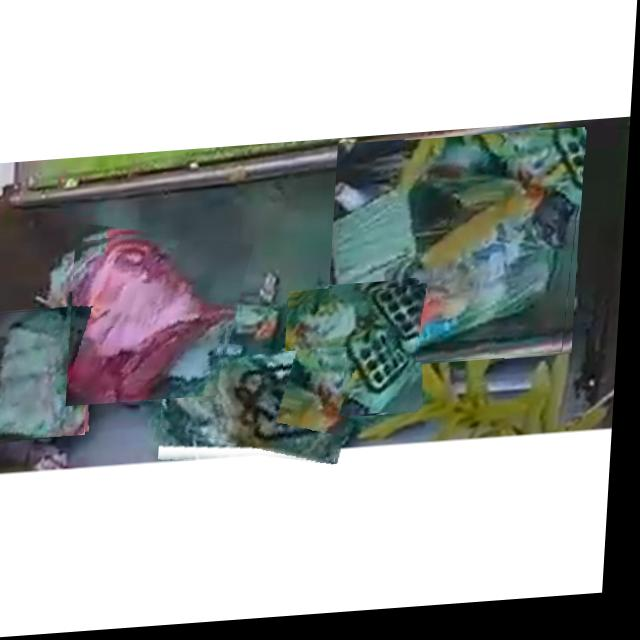general_trashbag: (331, 144, 581, 374), (166, 356, 342, 468), (289, 301, 420, 419), (0, 310, 94, 438)
other_trashbag: (72, 237, 234, 406)
